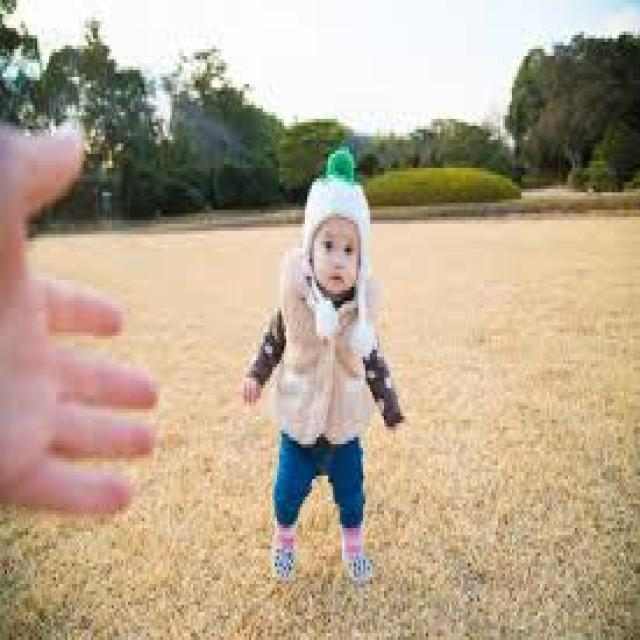Person: (243, 146, 404, 578)
